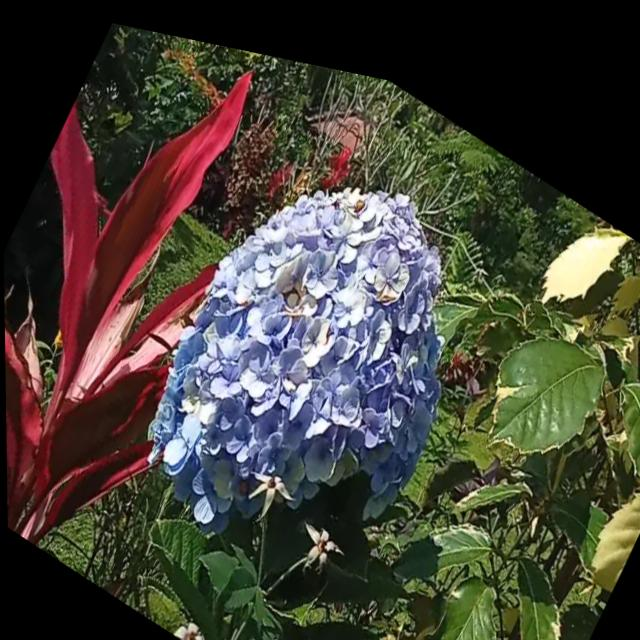Flower: (113, 71, 518, 623)
